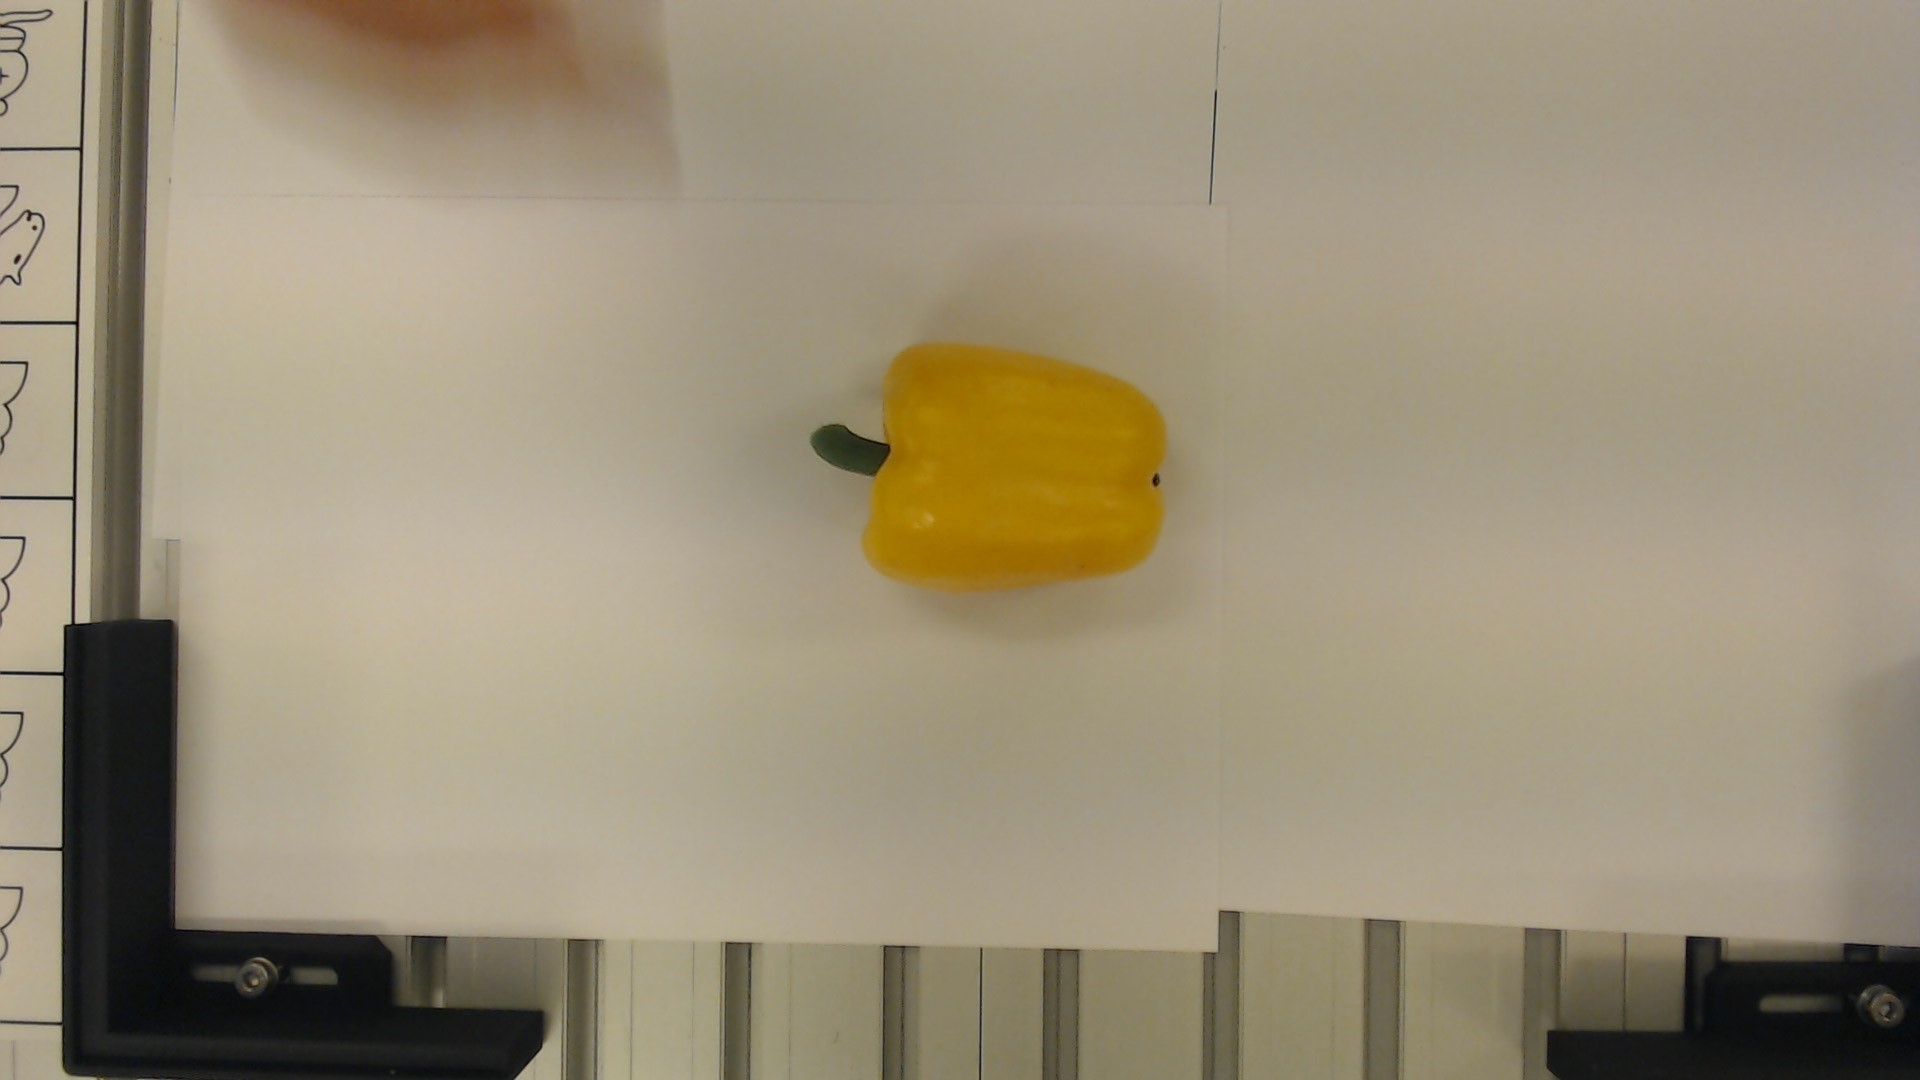Yellow Bell Pepper: (794, 338, 1168, 591)
